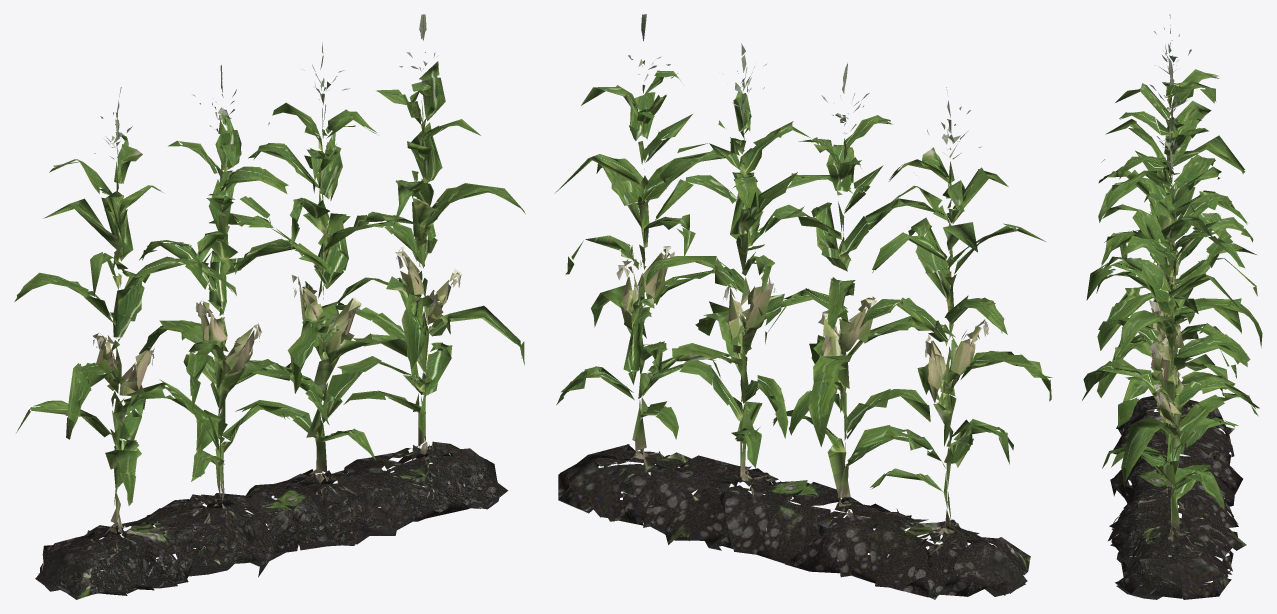
The model's file is maize-row.glb.
3 renders of one model, left to right at view 1: azimuth 30°, elevation 25°; view 2: azimuth 150°, elevation 25°; view 3: azimuth 270°, elevation 25°, orthographic. The views are drawn at different scales.
Parts seen in each view (by area): view 1: Mesh_0; view 2: Mesh_0; view 3: Mesh_0.
Part boxes in pixels (x1,y1,x2,y2): Mesh_0: (14, 14, 525, 599); Mesh_0: (554, 14, 1052, 599); Mesh_0: (1082, 14, 1262, 599).
Bounding box in the file's own units: 1.97 × 1.99 × 0.7479.
1 material, 1 textured.
